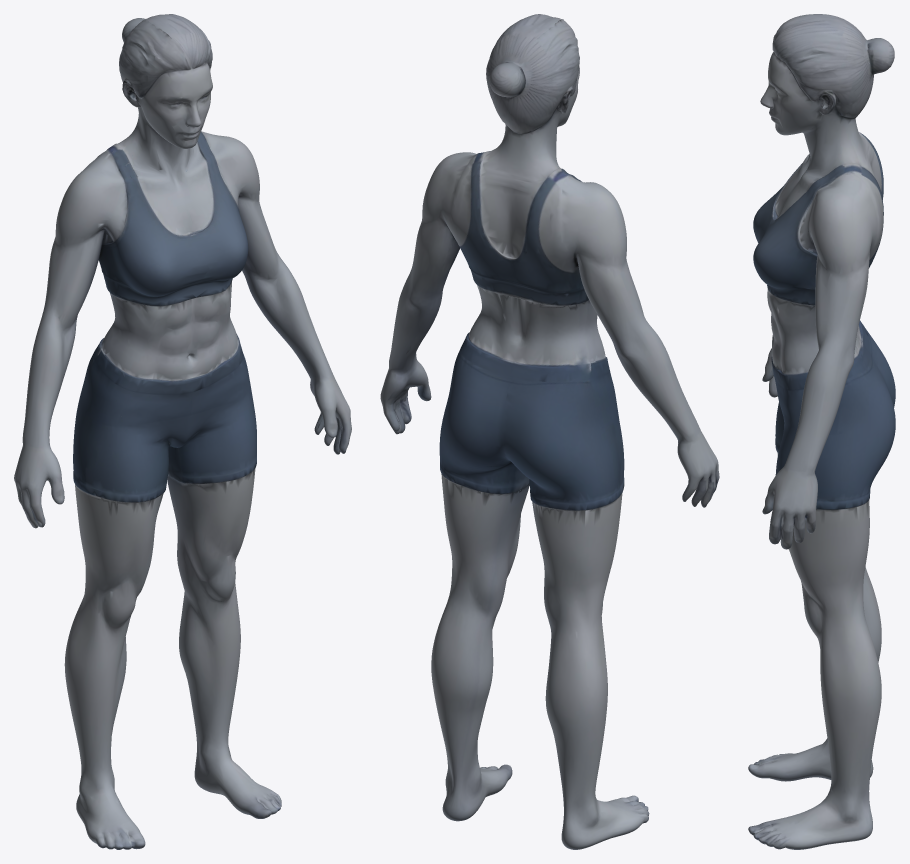
Rendered from cuerpo-mujer.glb.
The picture shows the model from 3 angles, left to right: view 1: azimuth 30°, elevation 25°; view 2: azimuth 150°, elevation 25°; view 3: azimuth 270°, elevation 25°; orthographic projection.
Visible parts, largest first — view 1: node_0; view 2: node_0; view 3: node_0.
Boxes of the visible parts, bbox=[...] form: node_0: bbox=[14, 14, 351, 849]; node_0: bbox=[380, 14, 719, 849]; node_0: bbox=[748, 14, 895, 849].
Size of the model in its own units: 0.5046 by 1.17 by 0.1984.
Materials: 1 (1 with a texture image).
